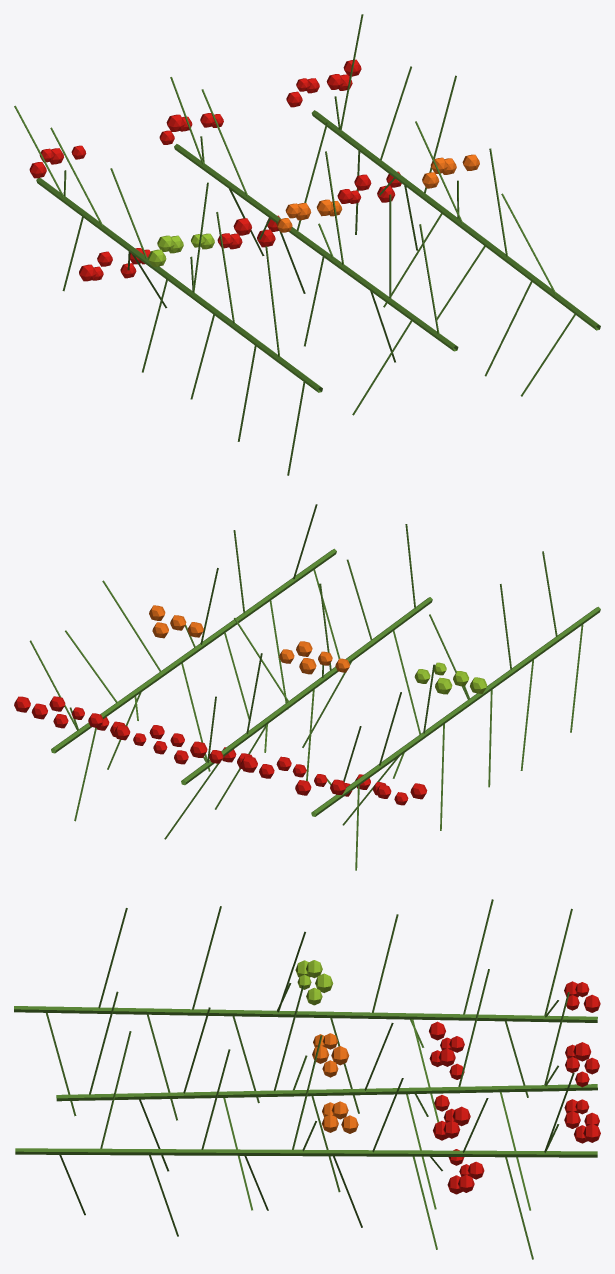
The model's file is r15c4_stems.obj.
The picture shows the model from 3 angles, top to bottom: view 1: azimuth 30°, elevation 25°; view 2: azimuth 150°, elevation 25°; view 3: azimuth 270°, elevation 25°; orthographic projection. The views are drawn at different scales.
Parts seen in each view (by area): view 1: r15c4_stems; view 2: r15c4_stems; view 3: r15c4_stems.
Boxes of the visible parts, <box> form: r15c4_stems: <box>14,14,600,475</box>; r15c4_stems: <box>14,504,600,870</box>; r15c4_stems: <box>14,899,600,1259</box>.
Size of the model in its own units: 1.49 by 0.8433 by 2.09.
